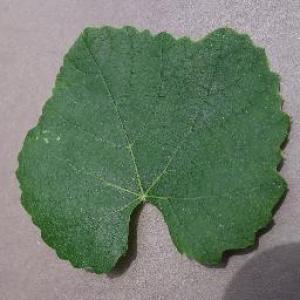Folha: (14, 23, 292, 274)
